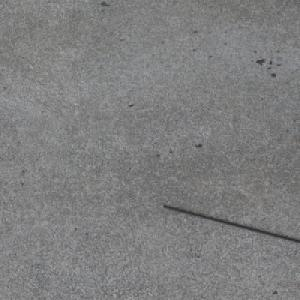LuggagePart: (161, 203, 300, 243)
